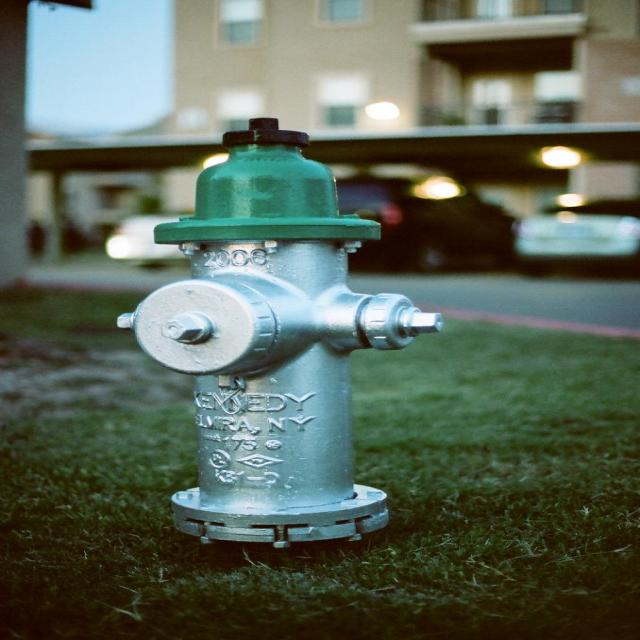fire_hydrant: (117, 115, 448, 545)
